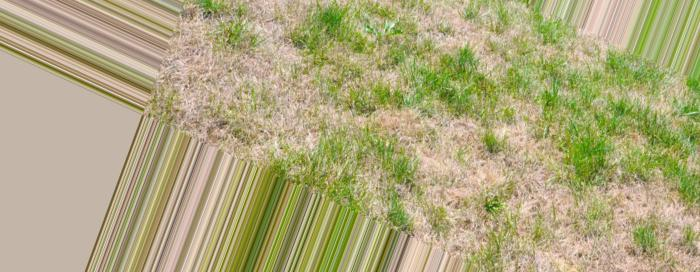patch: (175, 42, 349, 156), (548, 145, 661, 254), (409, 124, 524, 226), (418, 2, 498, 58)
